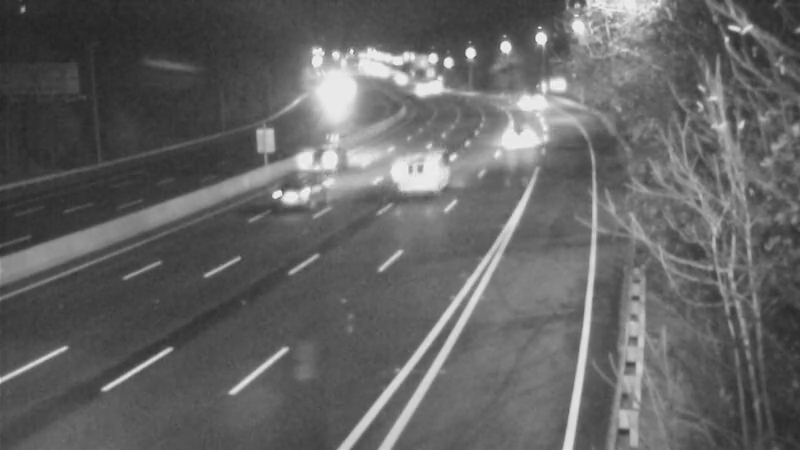vehicle: (269, 115, 349, 195), (374, 129, 454, 209), (253, 157, 333, 237), (505, 78, 555, 128), (496, 107, 546, 157)
